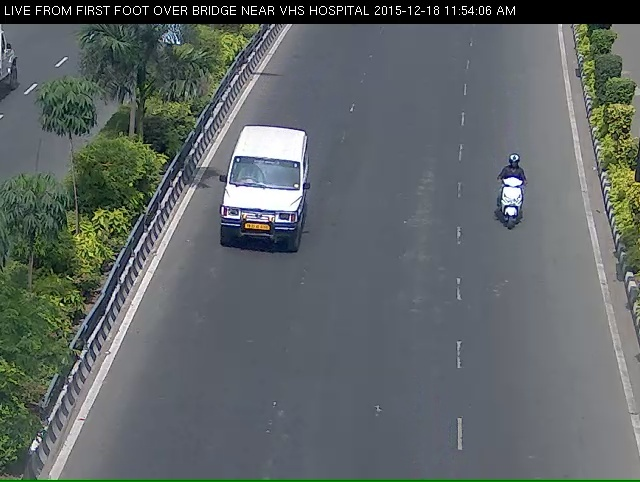Car: (211, 135, 308, 284)
Person: (484, 163, 542, 259)
